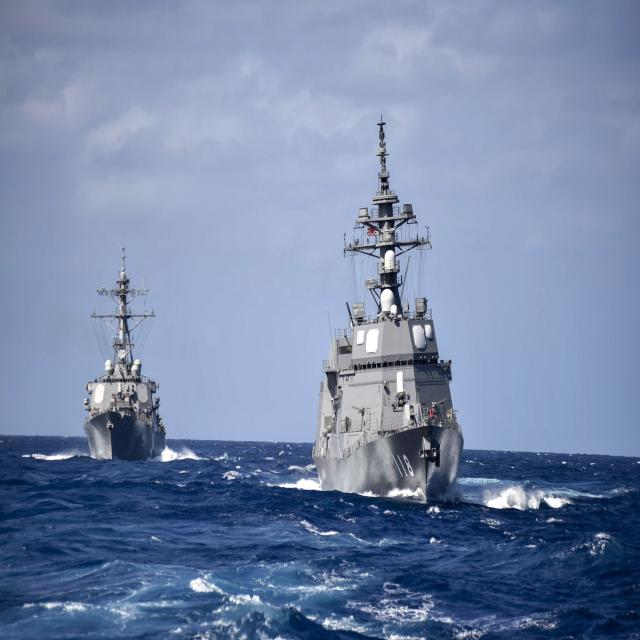navalvessels: (272, 122, 478, 526), (45, 253, 176, 464)
